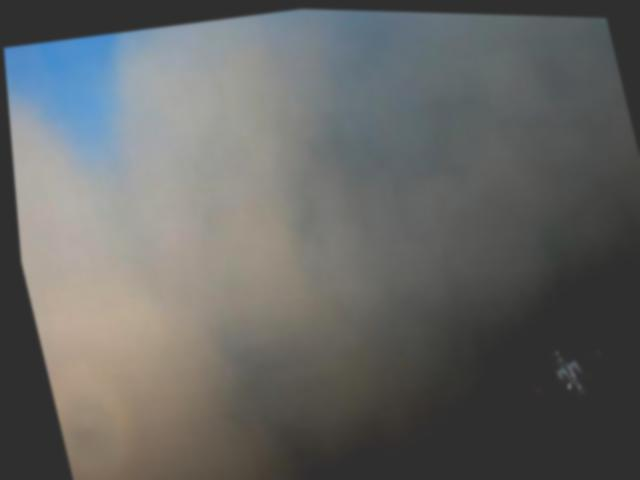iha: (515, 327, 611, 405)
